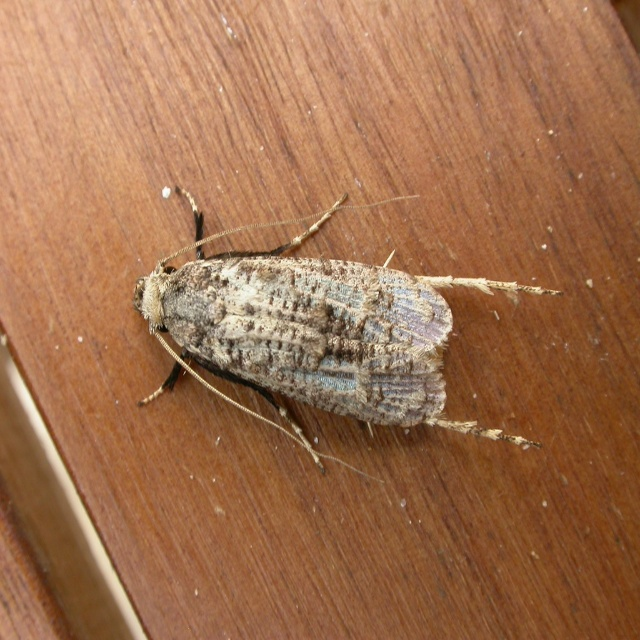Moths and butterflies: (129, 183, 568, 491)
